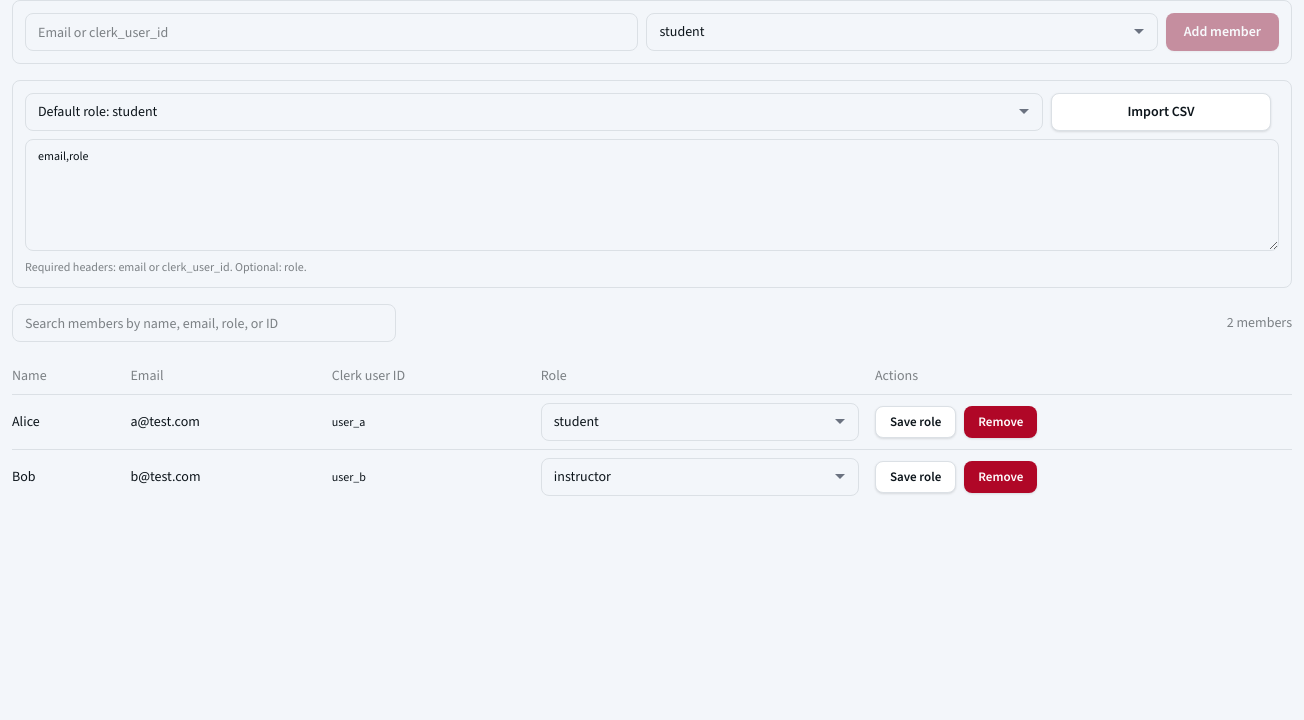
Test: ParishPeopleManager › shows error when addMember fetch rejects
This screenshot has width=1304, height=720.
Type "new@test.com" into the field with placeholder "Email or clerk_user_id".
click(332, 32); type("new@test.com")  # box [25,13,638,51]
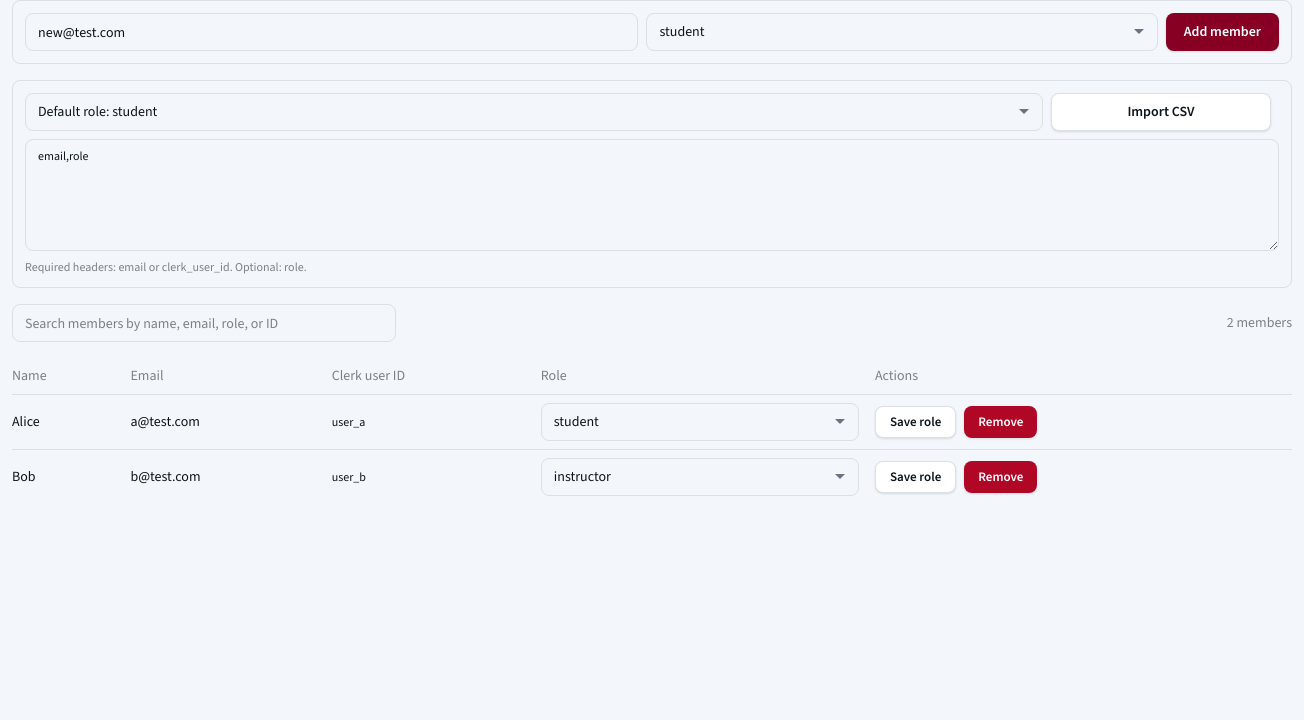
Click the button "Add member".
click(1222, 32)  # box [1166,13,1279,51]
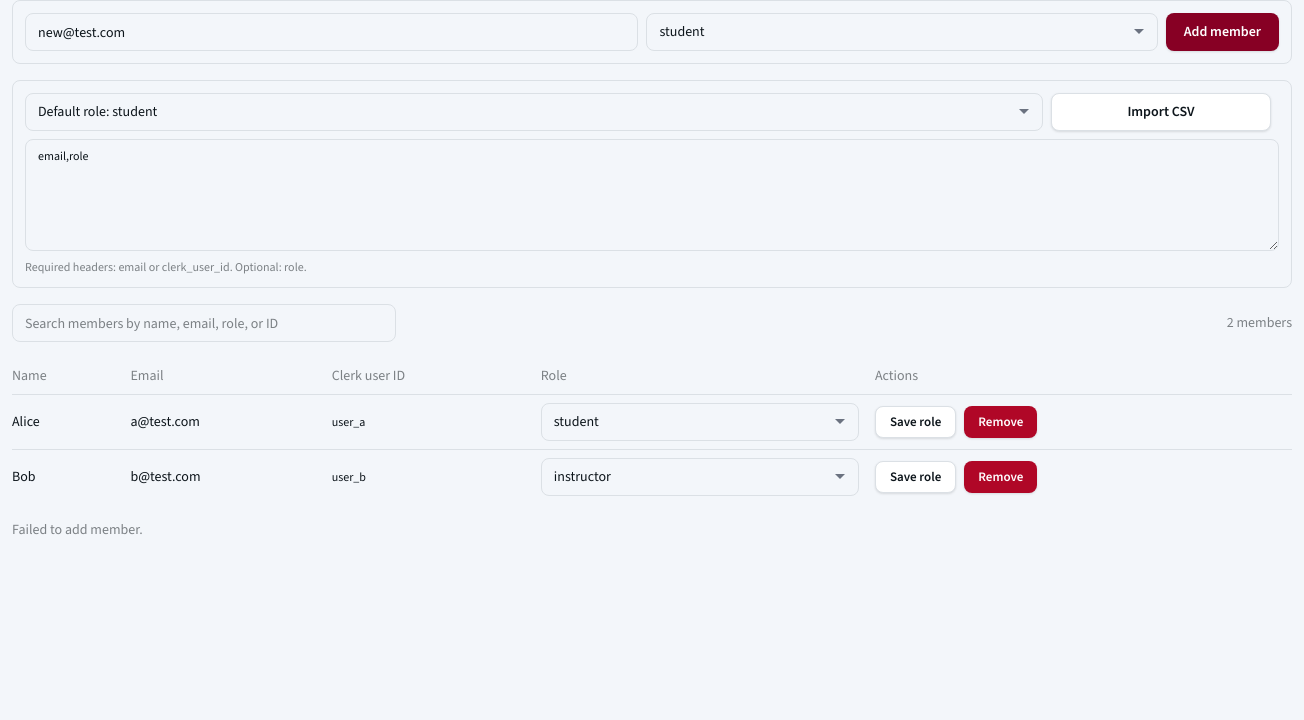
Now the text "Failed to add member." is shown, box [12,520,143,539]
